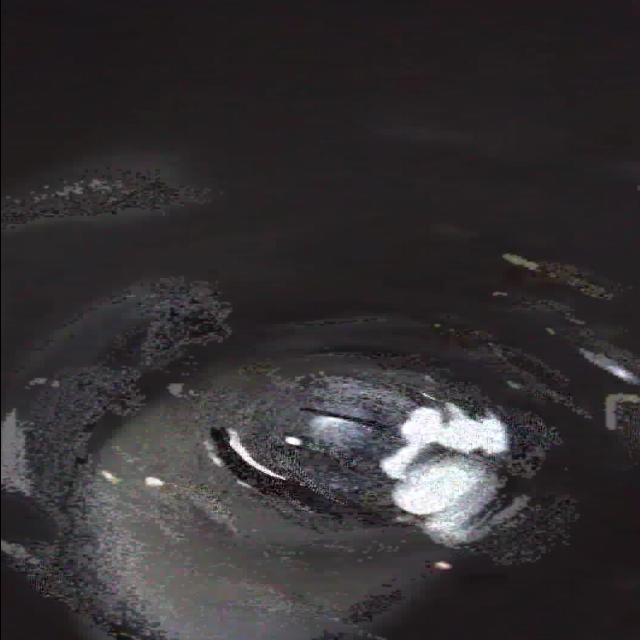hole: (196, 421, 291, 501)
